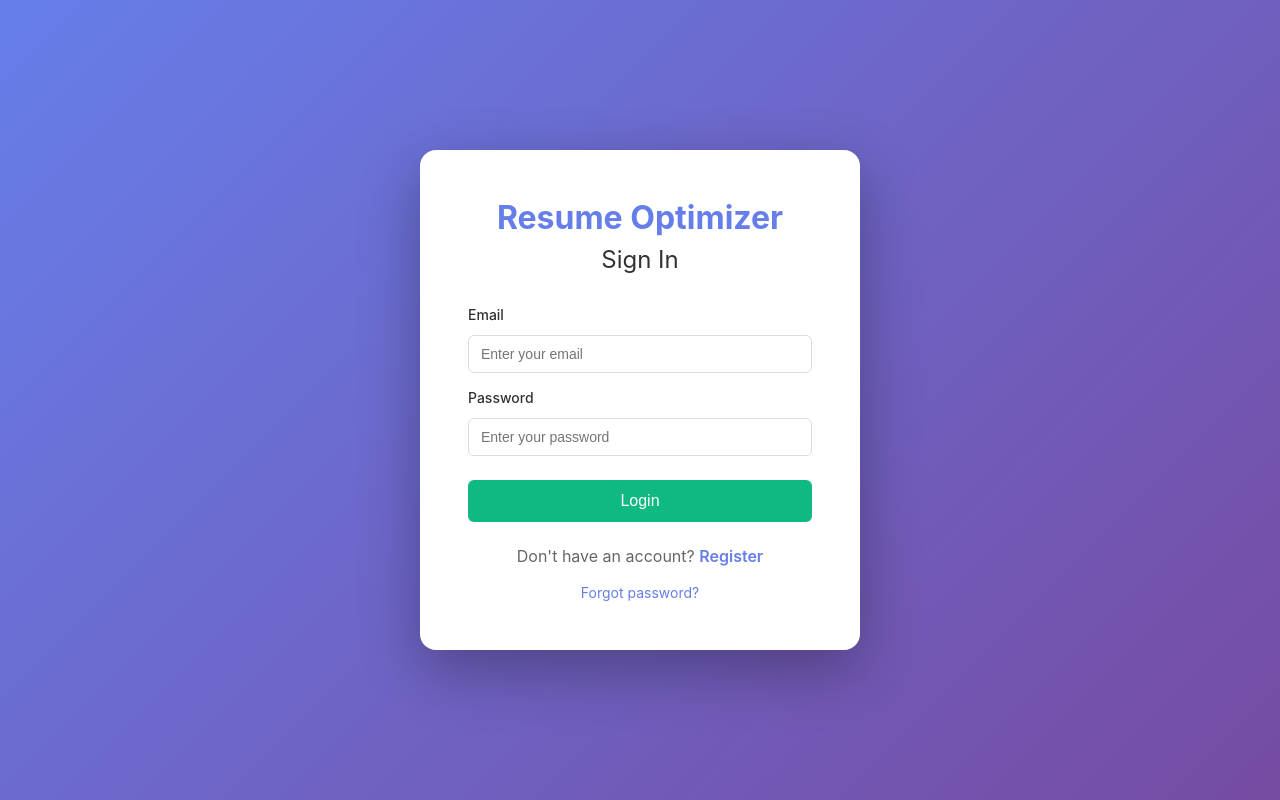
Test: Login › shows error when passwords do not match in register mode
The image size is (1280, 800).
Step 1. Click the text "Register" → (731, 556), box [699,546,763,566]
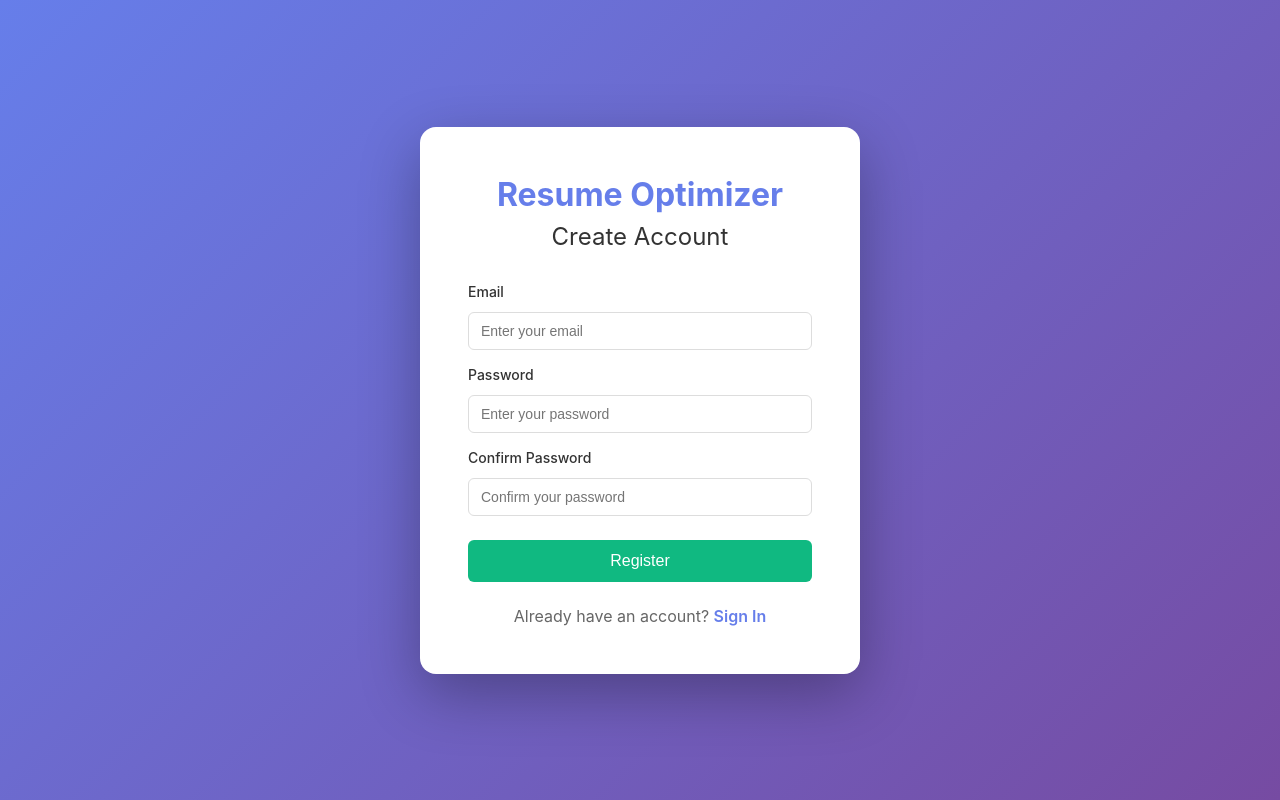
Step 2. Type "test@example.com" into the field with placeholder "Enter your email" → (640, 330), box [468,312,812,350]
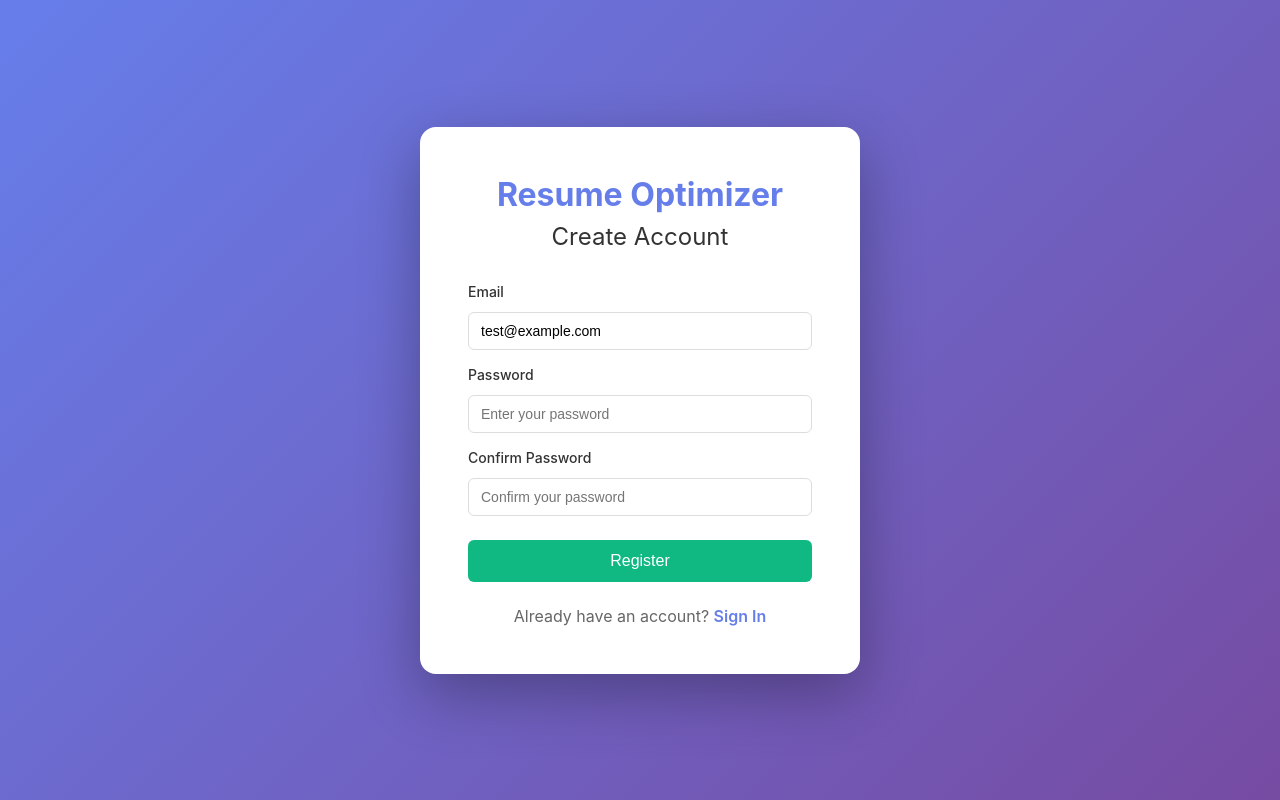
Step 3. Type "password123" into the password field with placeholder "Enter your password" → (640, 414), box [468,394,812,432]
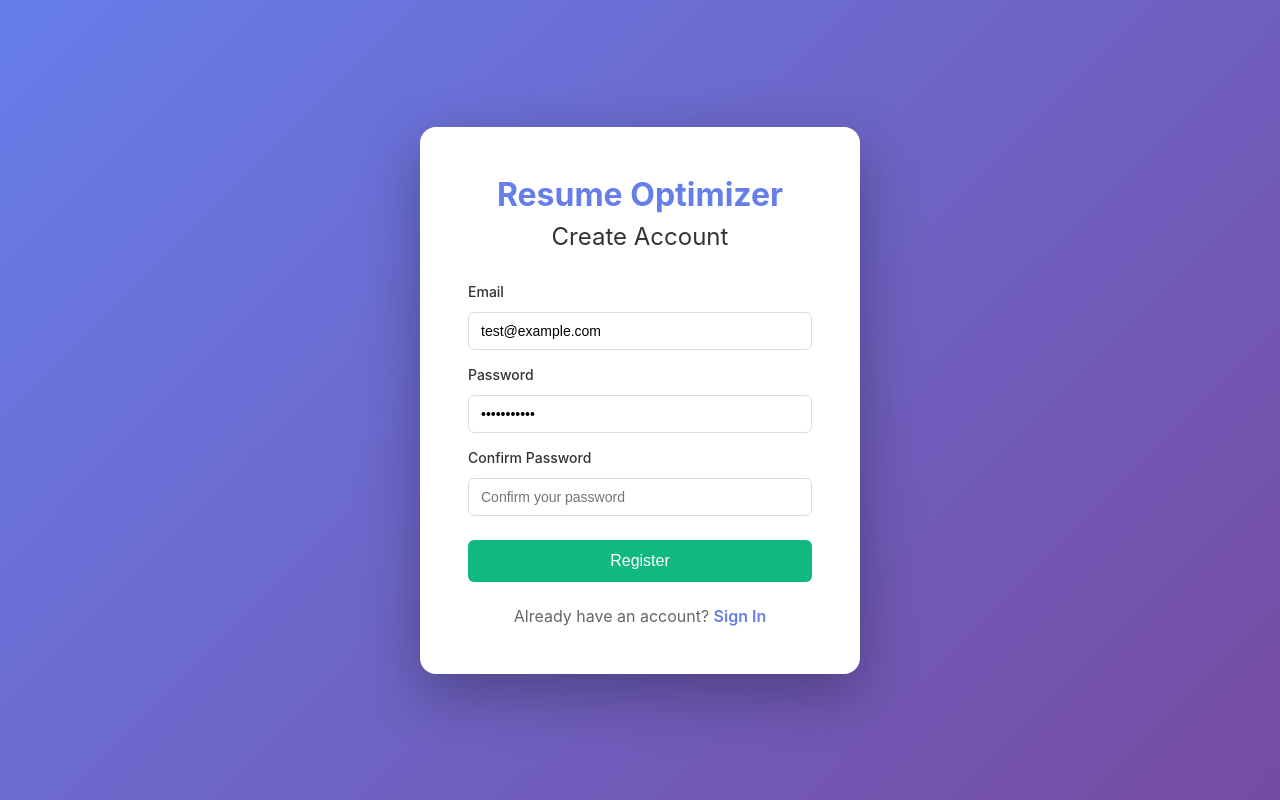
Step 4. Type "different" into the password field with placeholder "Confirm your password" → (640, 496), box [468,478,812,516]
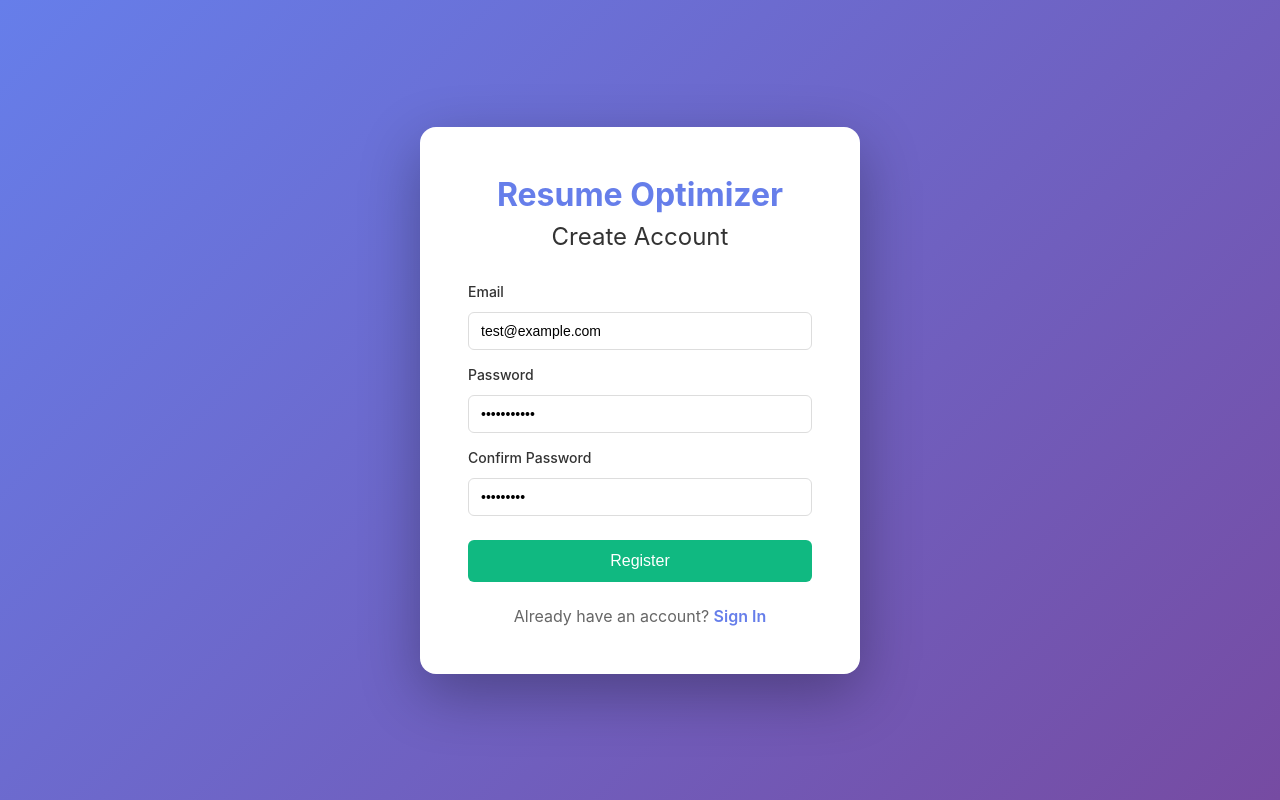
Step 5. Submit the form with placeholder "Enter your email", box [468,282,812,582]
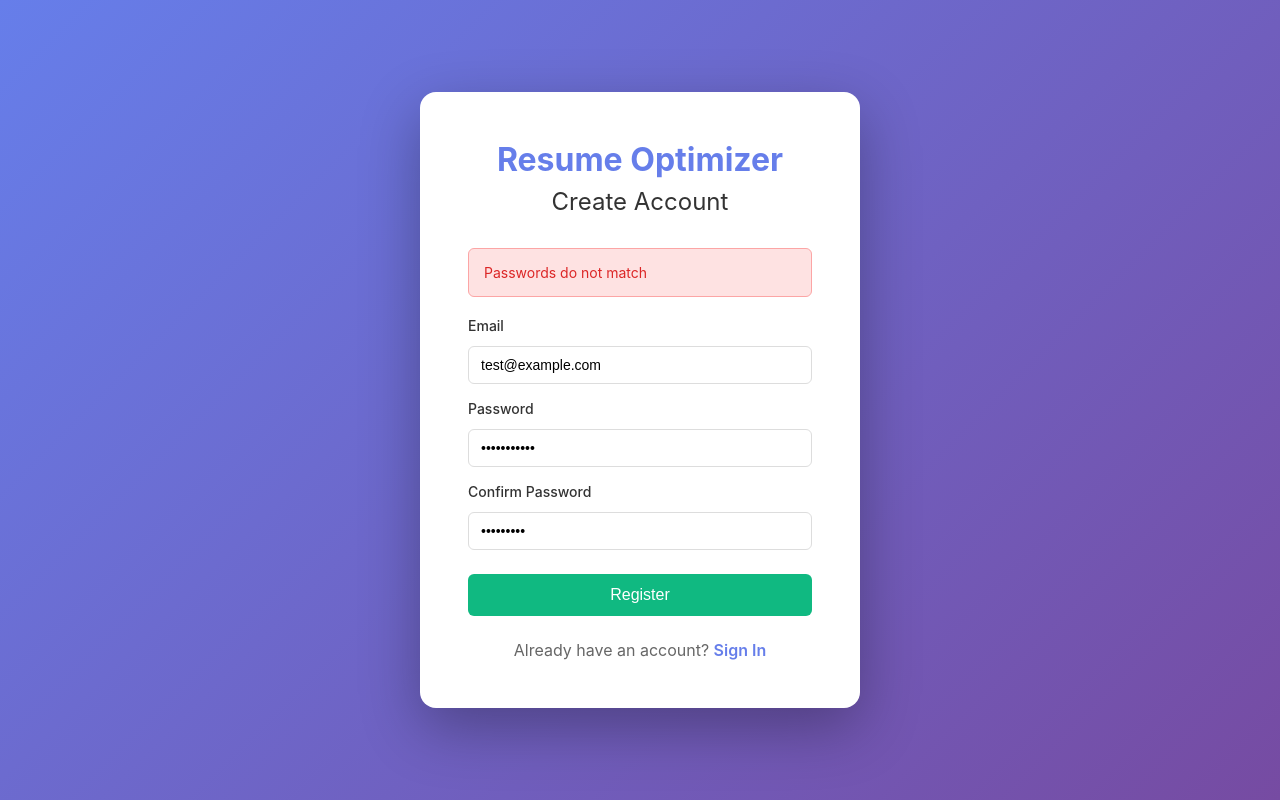
expect the text "Passwords do not match" is shown: met, box [468,248,812,297]
